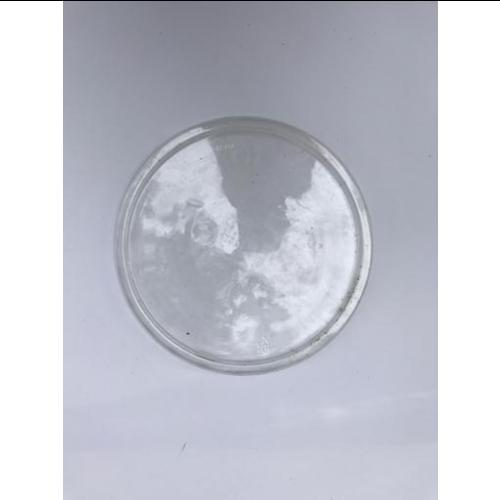plastic: (115, 116, 376, 377)
